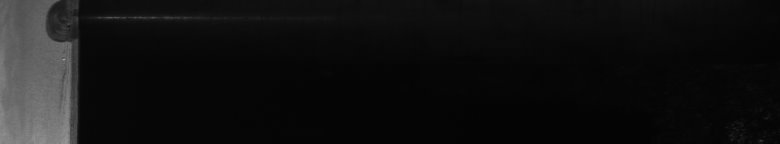hb: (39, 4, 68, 92)
